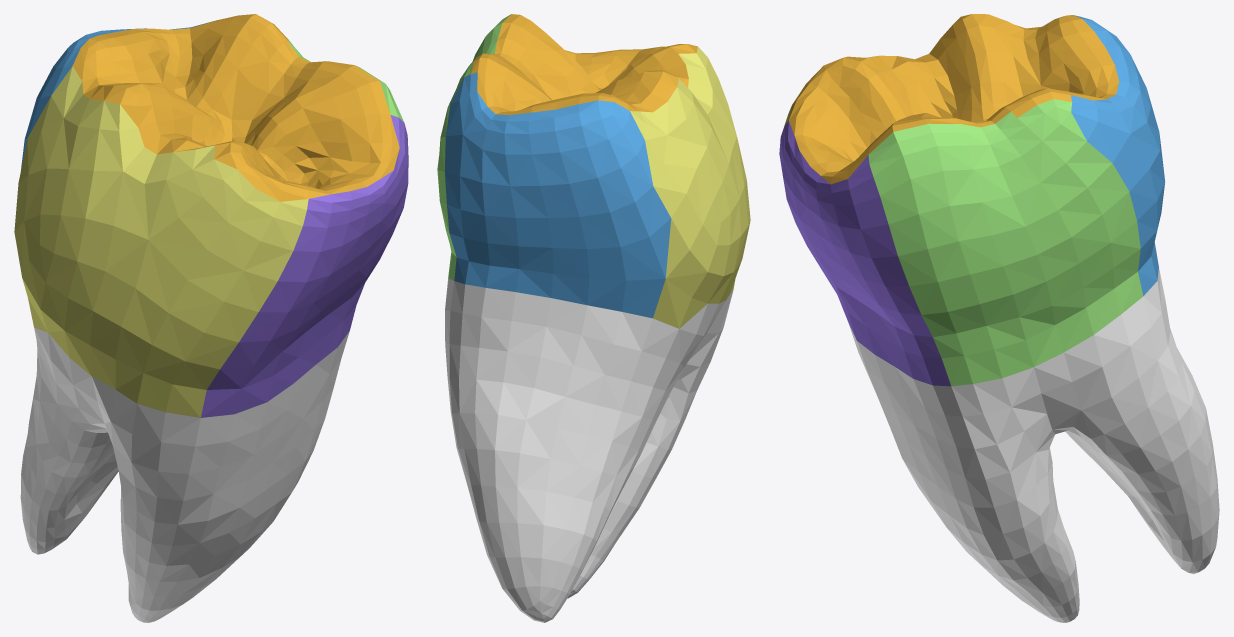
Rendered from tooth_46_annotated.glb.
3 views of the same model, side by side, from view 1: azimuth 30°, elevation 25°; view 2: azimuth 150°, elevation 25°; view 3: azimuth 270°, elevation 25° (orthographic). The views are drawn at different scales.
Visible parts, largest first — view 1: FDI_46; view 2: FDI_46; view 3: FDI_46.
Boxes of the visible parts, x1,y1,x2,y2 form: FDI_46: [14, 14, 408, 622]; FDI_46: [437, 14, 750, 622]; FDI_46: [779, 14, 1219, 622].
Bounding box in the file's own units: 0.0105 × 0.0182 × 0.0125.
